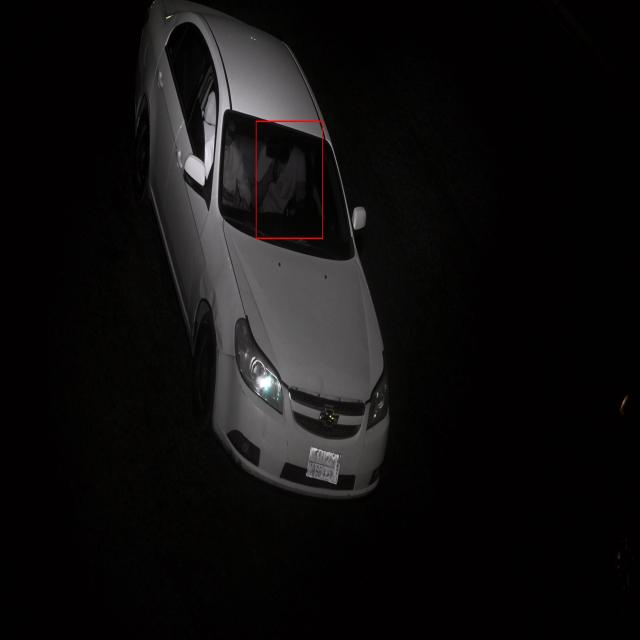windshield: (220, 102, 366, 263)
